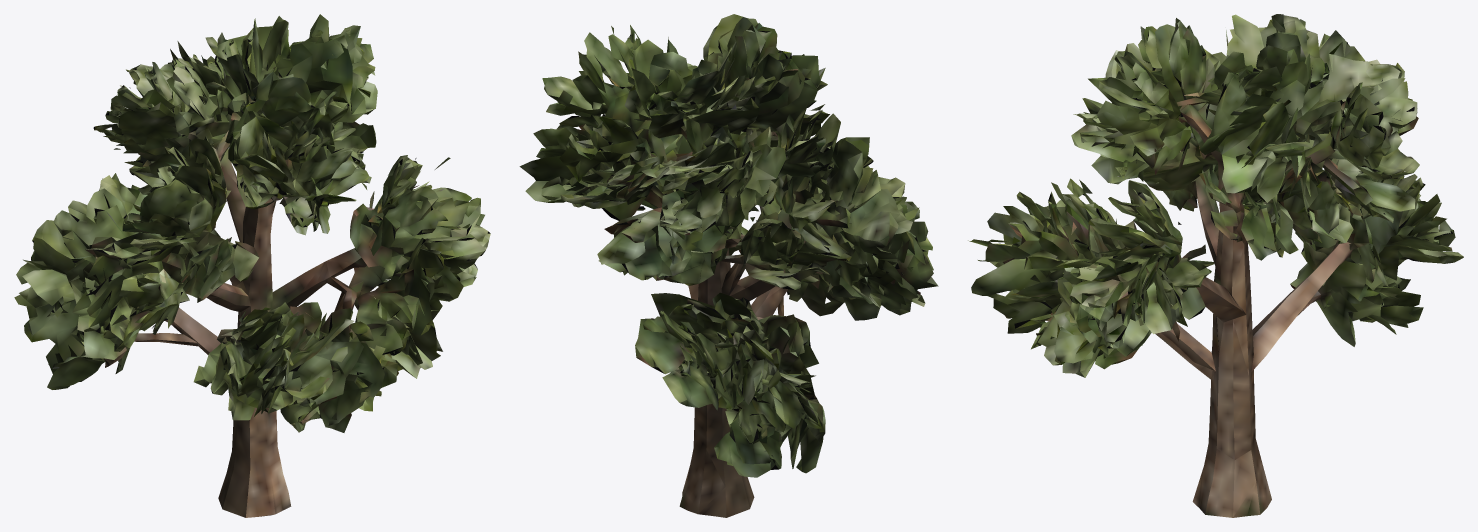
Rendered from Green Leafy Tree_with VARCO.fbx.
The picture shows the model from 3 angles, left to right: view 1: azimuth 30°, elevation 25°; view 2: azimuth 150°, elevation 25°; view 3: azimuth 270°, elevation 25°; orthographic projection. The views are drawn at different scales.
Parts seen in each view (by area): view 1: Tree; view 2: Tree; view 3: Tree.
Boxes of the visible parts, <box> form: Tree: <box>14,14,490,517</box>; Tree: <box>519,14,938,517</box>; Tree: <box>968,14,1463,517</box>.
Size of the model in its own units: 523 by 599 by 557.
1 material, 1 textured.
